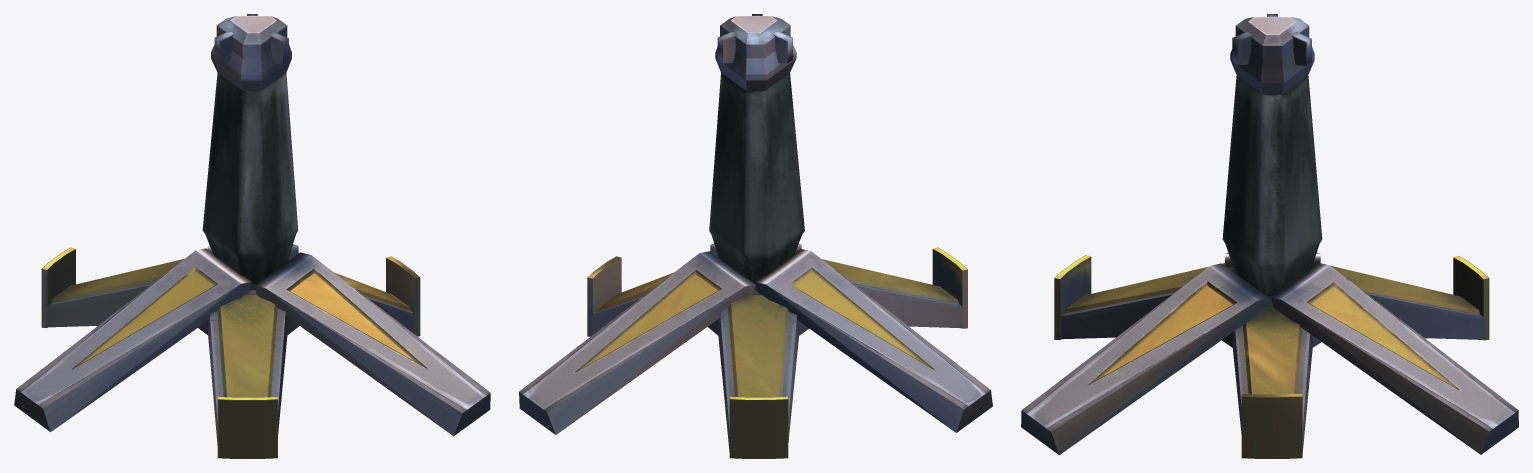
Rendered from S_Recorder_trap.fbx.
The picture shows the model from 3 angles, left to right: view 1: azimuth 30°, elevation 25°; view 2: azimuth 150°, elevation 25°; view 3: azimuth 270°, elevation 25°; orthographic projection. The views are drawn at different scales.
Visible parts, largest first — view 1: S_Recorder_trap; view 2: S_Recorder_trap; view 3: S_Recorder_trap.
Boxes of the visible parts, <box> form: S_Recorder_trap: <box>14,14,490,458</box>; S_Recorder_trap: <box>519,14,992,458</box>; S_Recorder_trap: <box>1021,14,1518,458</box>.
Size of the model in its own units: 1.04 by 0.9059 by 1.13.
1 material, 1 textured.
